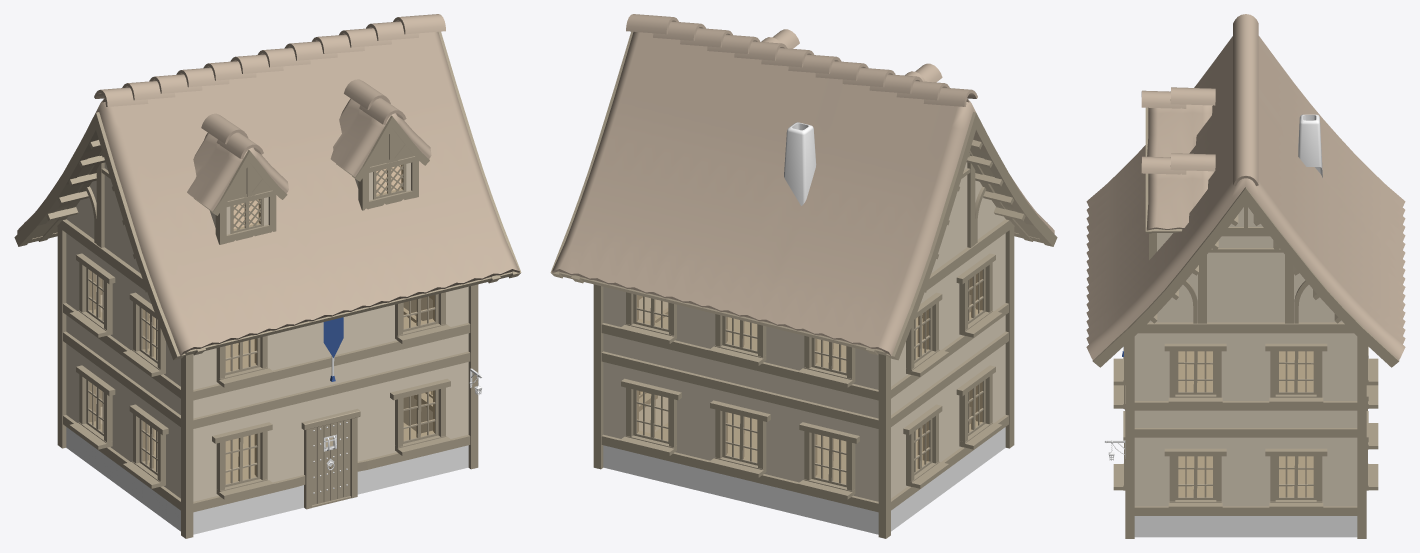
Rendered from eastbrook_hall.glb.
The picture shows the model from 3 angles, left to right: view 1: azimuth 30°, elevation 25°; view 2: azimuth 150°, elevation 25°; view 3: azimuth 270°, elevation 25°; orthographic projection. The views are drawn at different scales.
Visible parts, largest first — view 1: civic-hall:roof:village/MI_RoundTiles, civic-hall:structure:village/MI_Plaster, civic-hall:window:village/MI_WoodTrim, civic-hall:structure:village/MI_WoodTrim, civic-hall:roof:village/MI_WoodTrim, civic-hall:structure:village/MI_UnevenBrick, civic-hall:roof:village/MI_Plaster, civic-hall:entry-leaf:village/MI_WoodTrim_Wear, civic-hall:floor:village/MI_WoodTrim, civic-hall:wall-detail:props/MI_Banner; view 2: civic-hall:roof:village/MI_RoundTiles, civic-hall:structure:village/MI_Plaster, civic-hall:window:village/MI_WoodTrim, civic-hall:structure:village/MI_WoodTrim, civic-hall:roof:village/MI_WoodTrim, civic-hall:structure:village/MI_UnevenBrick, civic-hall:floor:village/MI_WoodTrim, civic-hall:roof:village/MI_Plaster, civic-hall:roof:village/MI_UnevenBrick; view 3: civic-hall:roof:village/MI_RoundTiles, civic-hall:structure:village/MI_Plaster, civic-hall:window:village/MI_WoodTrim, civic-hall:roof:village/MI_WoodTrim, civic-hall:structure:village/MI_WoodTrim, civic-hall:roof:village/MI_Plaster, civic-hall:structure:village/MI_UnevenBrick, civic-hall:floor:village/MI_WoodTrim, civic-hall:roof:village/MI_UnevenBrick.
Boxes of the visible parts, x1,y1,x2,y2 form: civic-hall:roof:village/MI_RoundTiles: (17,14,519,355); civic-hall:structure:village/MI_Plaster: (66,233,468,501); civic-hall:window:village/MI_WoodTrim: (69,253,452,499); civic-hall:structure:village/MI_WoodTrim: (57,227,478,538); civic-hall:roof:village/MI_WoodTrim: (14,31,521,360); civic-hall:structure:village/MI_UnevenBrick: (66,427,468,534); civic-hall:roof:village/MI_Plaster: (66,162,410,273); civic-hall:entry-leaf:village/MI_WoodTrim_Wear: (312,419,350,505); civic-hall:floor:village/MI_WoodTrim: (149,316,416,480); civic-hall:wall-detail:props/MI_Banner: (323,317,343,357); civic-hall:roof:village/MI_RoundTiles: (552,14,1054,355); civic-hall:structure:village/MI_Plaster: (603,233,1005,501); civic-hall:window:village/MI_WoodTrim: (619,253,1002,499); civic-hall:structure:village/MI_WoodTrim: (593,227,1014,538); civic-hall:roof:village/MI_WoodTrim: (550,31,1057,360); civic-hall:structure:village/MI_UnevenBrick: (603,427,1005,534); civic-hall:floor:village/MI_WoodTrim: (655,316,922,480); civic-hall:roof:village/MI_Plaster: (931,162,1005,273); civic-hall:roof:village/MI_UnevenBrick: (784,122,816,205); civic-hall:roof:village/MI_RoundTiles: (1086,14,1405,360); civic-hall:structure:village/MI_Plaster: (1134,333,1357,506); civic-hall:window:village/MI_WoodTrim: (1113,343,1378,510); civic-hall:roof:village/MI_WoodTrim: (1092,107,1399,367); civic-hall:structure:village/MI_WoodTrim: (1124,336,1366,538); civic-hall:roof:village/MI_Plaster: (1149,207,1342,322); civic-hall:structure:village/MI_UnevenBrick: (1134,516,1357,537); civic-hall:floor:village/MI_WoodTrim: (1178,351,1313,494); civic-hall:roof:village/MI_UnevenBrick: (1298,114,1322,177).
Size of the model in its own units: 9.68 by 10.9 by 8.25.
